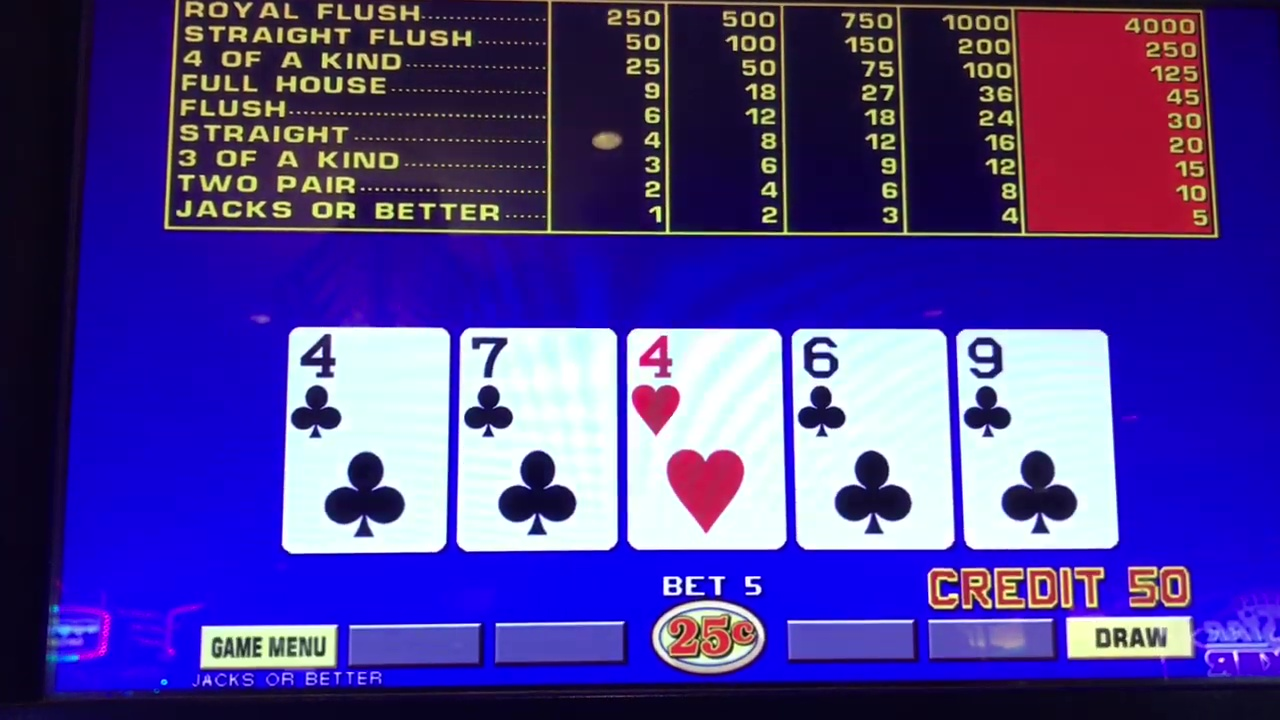C4: (292, 326, 445, 553)
C6: (796, 327, 946, 550)
C7: (461, 329, 617, 549)
C9: (961, 332, 1108, 550)
H4: (630, 330, 786, 548)
